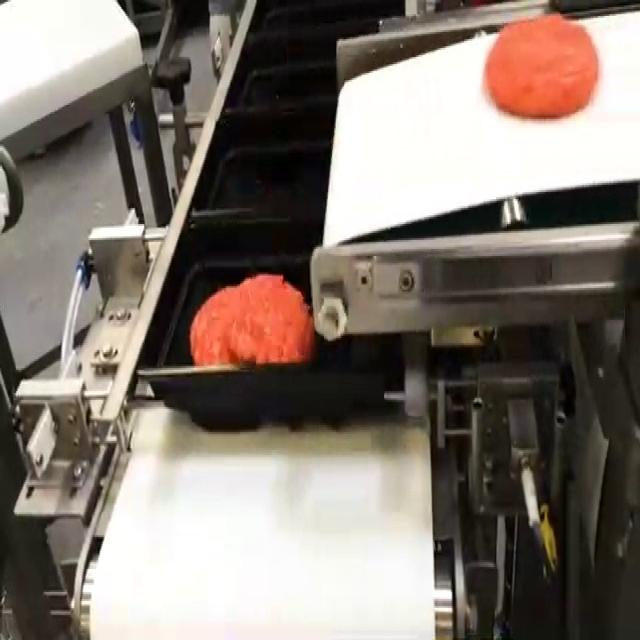hamburguer: (484, 14, 598, 117)
